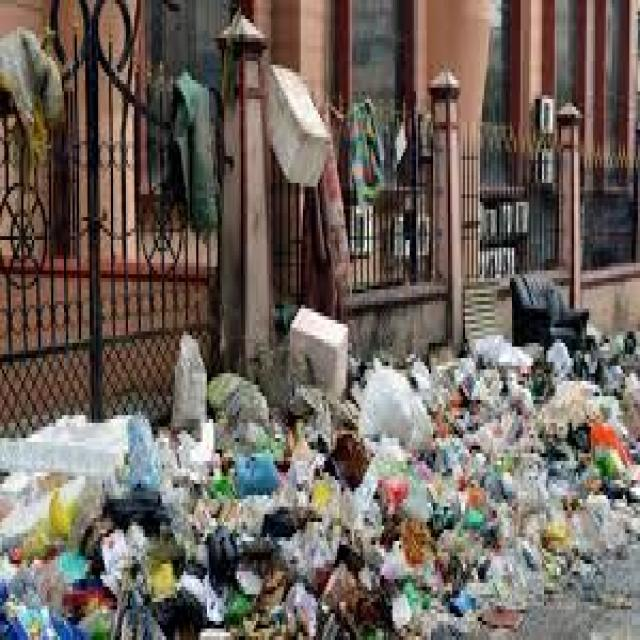garbage: (9, 354, 617, 636)
